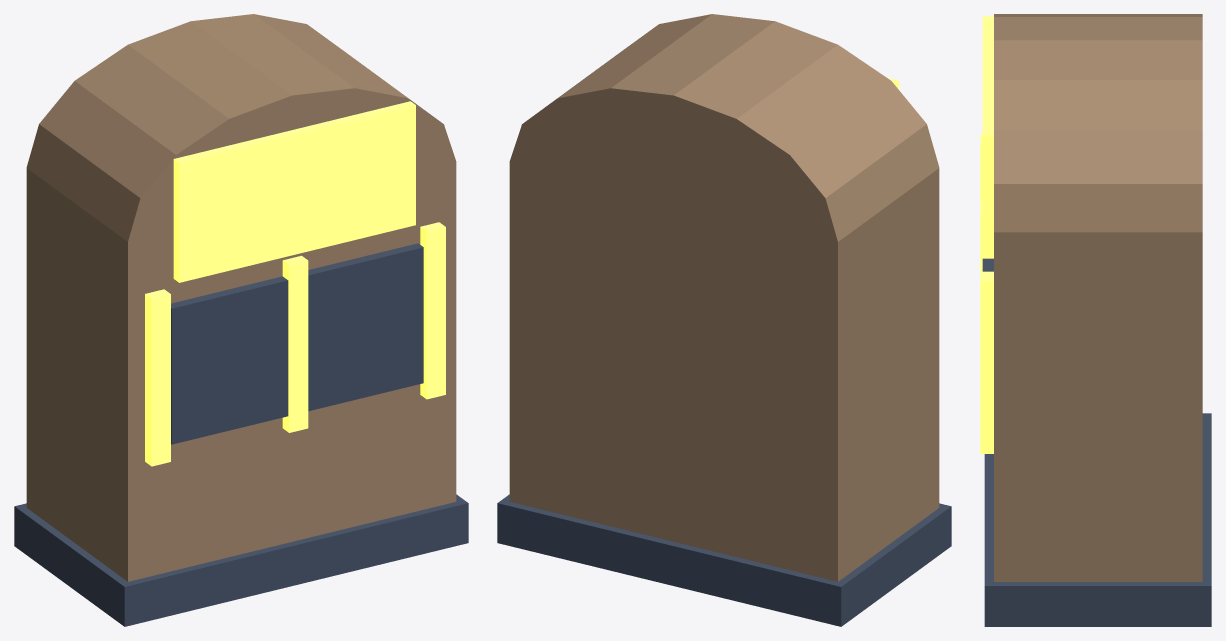
Rendered from jukebox.glb.
The picture shows the model from 3 angles, left to right: view 1: azimuth 30°, elevation 25°; view 2: azimuth 150°, elevation 25°; view 3: azimuth 270°, elevation 25°; orthographic projection. The views are drawn at different scales.
Parts seen in each view (by area): view 1: Jukebox; view 2: Jukebox; view 3: Jukebox.
Part boxes in pixels (<box>): Jukebox: <box>14,14,468,626</box>; Jukebox: <box>497,14,951,626</box>; Jukebox: <box>980,14,1211,626</box>.
Bounding box in the file's own units: 0.9 × 1.22 × 0.51.
